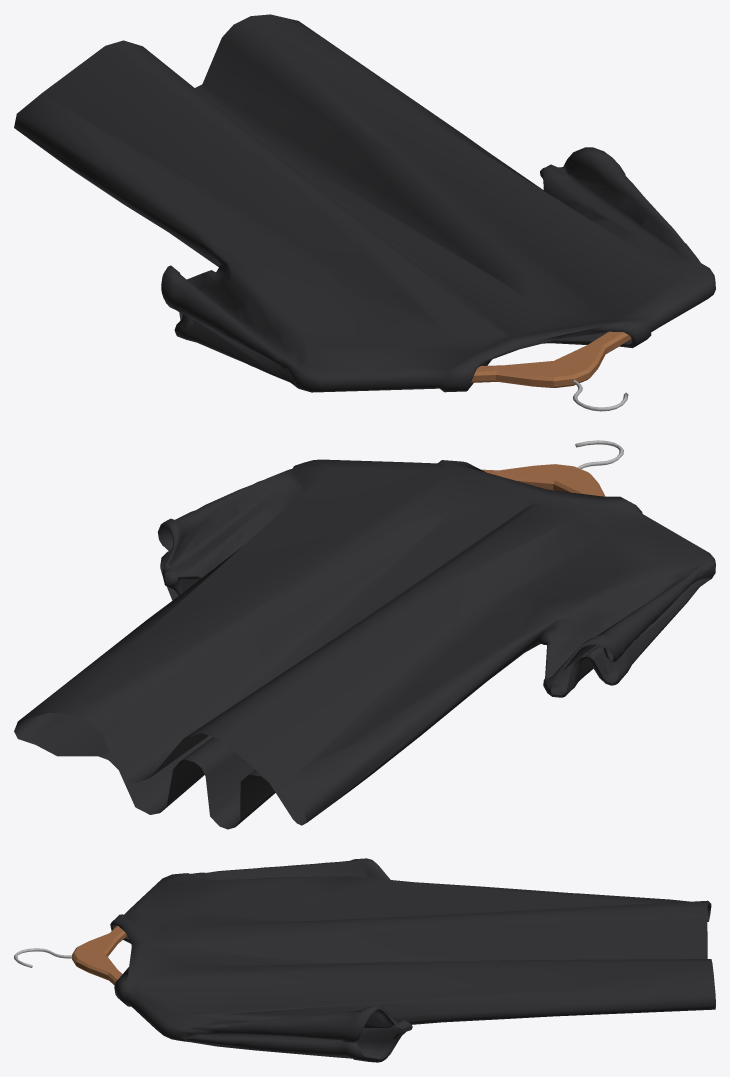
The model's file is remera-oversize.glb.
3 views of the same model, one above another, from view 1: azimuth 30°, elevation 25°; view 2: azimuth 150°, elevation 25°; view 3: azimuth 270°, elevation 25° (orthographic). The views are drawn at different scales.
Parts seen in each view (by area): view 1: Remera_Oversize_Negra_Sin_Logo, Hanger_Wood_Body; view 2: Remera_Oversize_Negra_Sin_Logo, Hanger_Wood_Body; view 3: Remera_Oversize_Negra_Sin_Logo, Hanger_Wood_Body.
Boxes of the visible parts, x1,y1,x2,y2 form: Remera_Oversize_Negra_Sin_Logo: [14, 14, 715, 392]; Hanger_Wood_Body: [471, 331, 631, 387]; Remera_Oversize_Negra_Sin_Logo: [14, 459, 715, 829]; Hanger_Wood_Body: [481, 464, 605, 496]; Remera_Oversize_Negra_Sin_Logo: [110, 858, 715, 1062]; Hanger_Wood_Body: [72, 925, 126, 985].
Size of the model in its own units: 0.4883 by 0.1034 by 0.8403.
